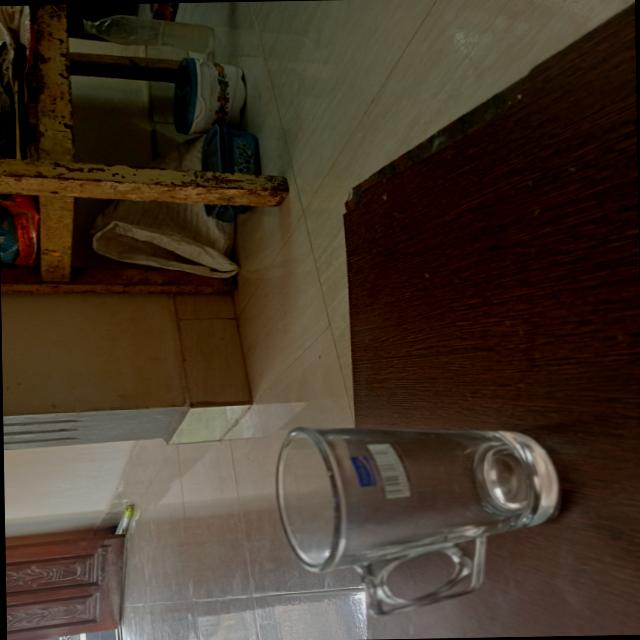glass-VX4N: (264, 420, 571, 626)
